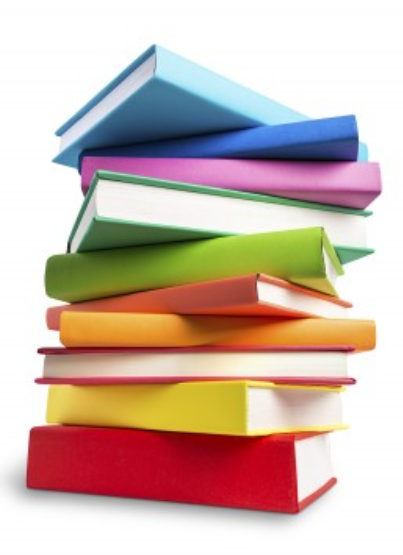book: (45, 42, 363, 142), (24, 425, 339, 517), (35, 225, 343, 286), (42, 383, 349, 437), (27, 347, 352, 383)
